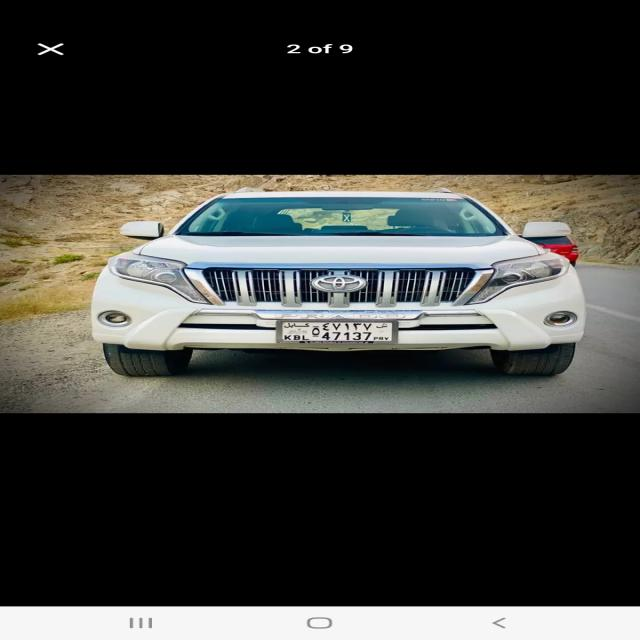Plate: (276, 320, 398, 344)
